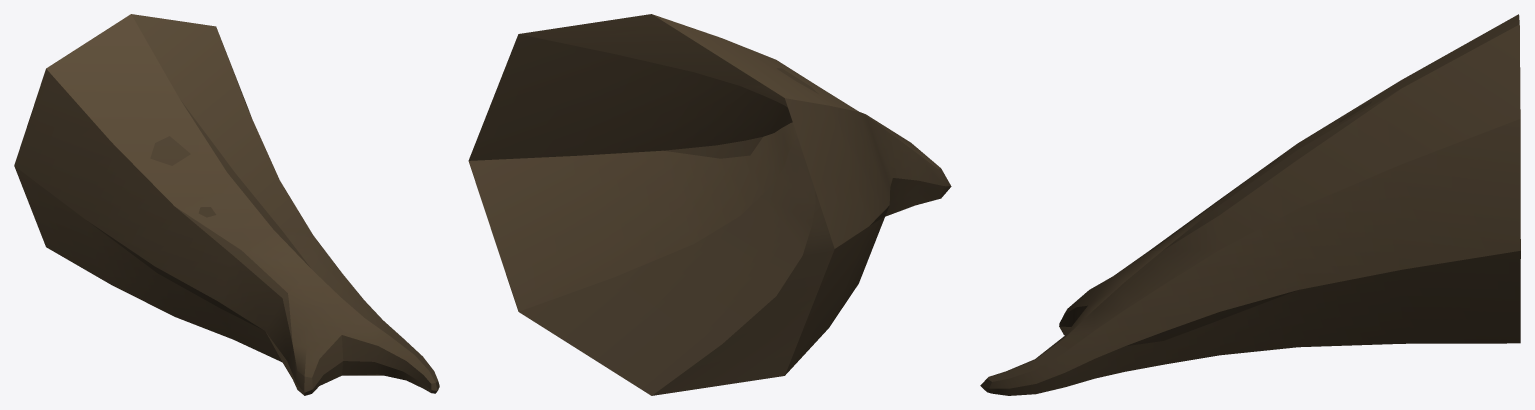
3 views of the same model, side by side, from view 1: azimuth 30°, elevation 25°; view 2: azimuth 150°, elevation 25°; view 3: azimuth 270°, elevation 25° (orthographic). The views are drawn at different scales.
Parts seen in each view (by area): view 1: root_3.001; view 2: root_3.001; view 3: root_3.001.
Boxes of the visible parts, x1,y1,x2,y2 form: root_3.001: [14, 14, 439, 395]; root_3.001: [468, 14, 951, 395]; root_3.001: [980, 14, 1520, 395].
Bounding box in the file's own units: 1.32 × 1.34 × 2.09.
Materials: 1 (1 with a texture image).
